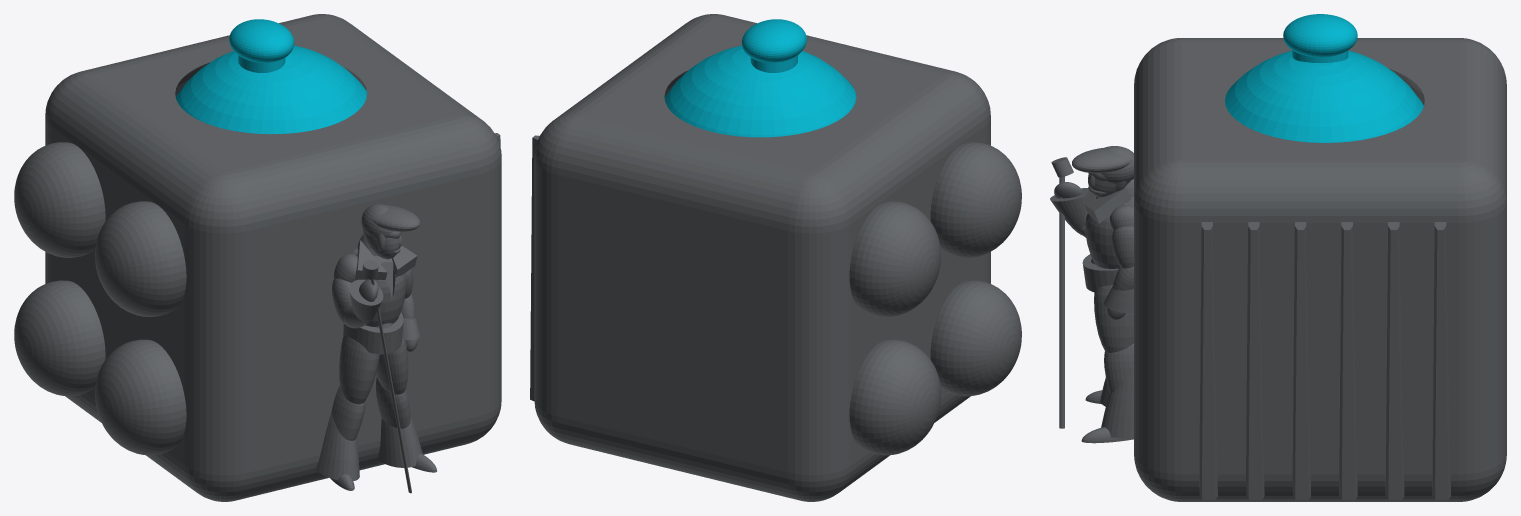
File: Lewis T.glb
3 renders of one model, left to right at view 1: azimuth 30°, elevation 25°; view 2: azimuth 150°, elevation 25°; view 3: azimuth 270°, elevation 25°, orthographic. The views are drawn at different scales.
Visible parts, largest first — view 1: Mesh_Mesh_head_geo.001_lambert2SG.001; view 2: Mesh_Mesh_head_geo.001_lambert2SG.001; view 3: Mesh_Mesh_head_geo.001_lambert2SG.001.
Part boxes in pixels (bbox=[...]): Mesh_Mesh_head_geo.001_lambert2SG.001: bbox=[14, 14, 501, 501]; Mesh_Mesh_head_geo.001_lambert2SG.001: bbox=[530, 14, 1021, 501]; Mesh_Mesh_head_geo.001_lambert2SG.001: bbox=[1050, 14, 1506, 501].
Size of the model in its own units: 0.049 by 0.049 by 0.049.
